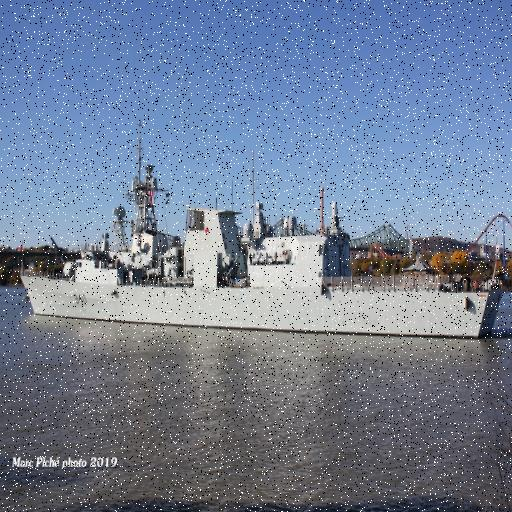Fragata: (13, 119, 505, 349)
